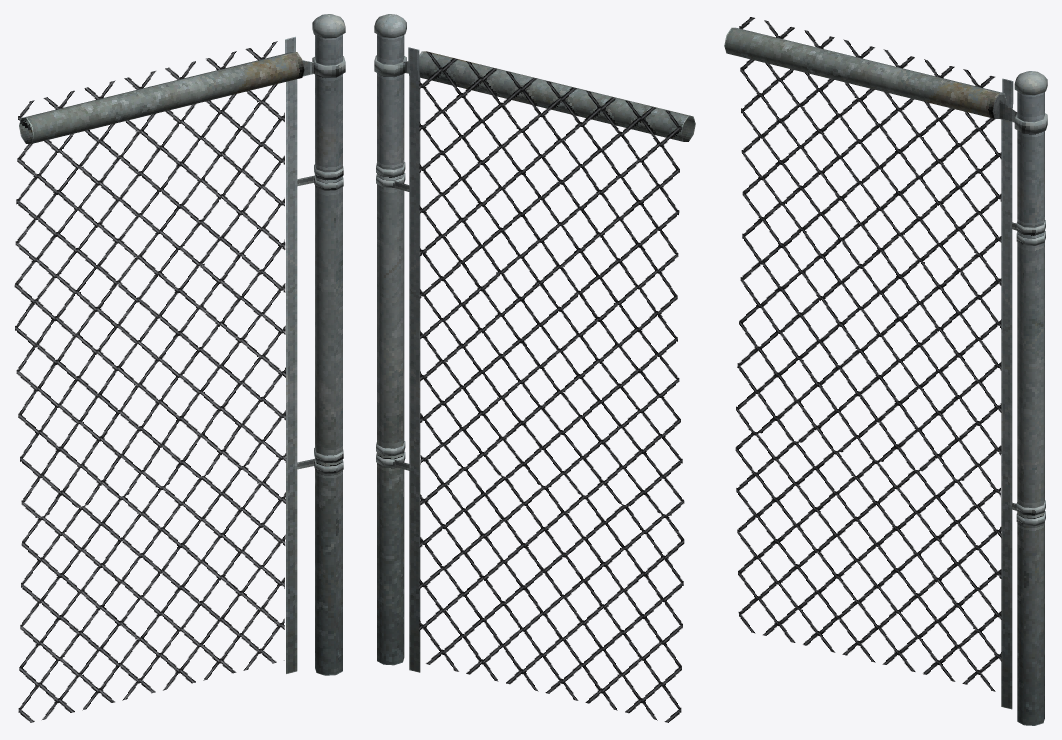
Rendered from chain_link_fence_end_left.glb.
3 renders of one model, left to right at view 1: azimuth 30°, elevation 25°; view 2: azimuth 150°, elevation 25°; view 3: azimuth 330°, elevation 25°, orthographic.
Parts seen in each view (by area): view 1: chain_link_fence_end_left; view 2: chain_link_fence_end_left; view 3: chain_link_fence_end_left.
Part boxes in pixels (bbox=[...]): chain_link_fence_end_left: bbox=[14, 14, 345, 722]; chain_link_fence_end_left: bbox=[374, 14, 695, 722]; chain_link_fence_end_left: bbox=[724, 17, 1047, 725].
Bounding box in the file's own units: 1.05 × 2.06 × 0.1165.
2 materials, 2 textured.
